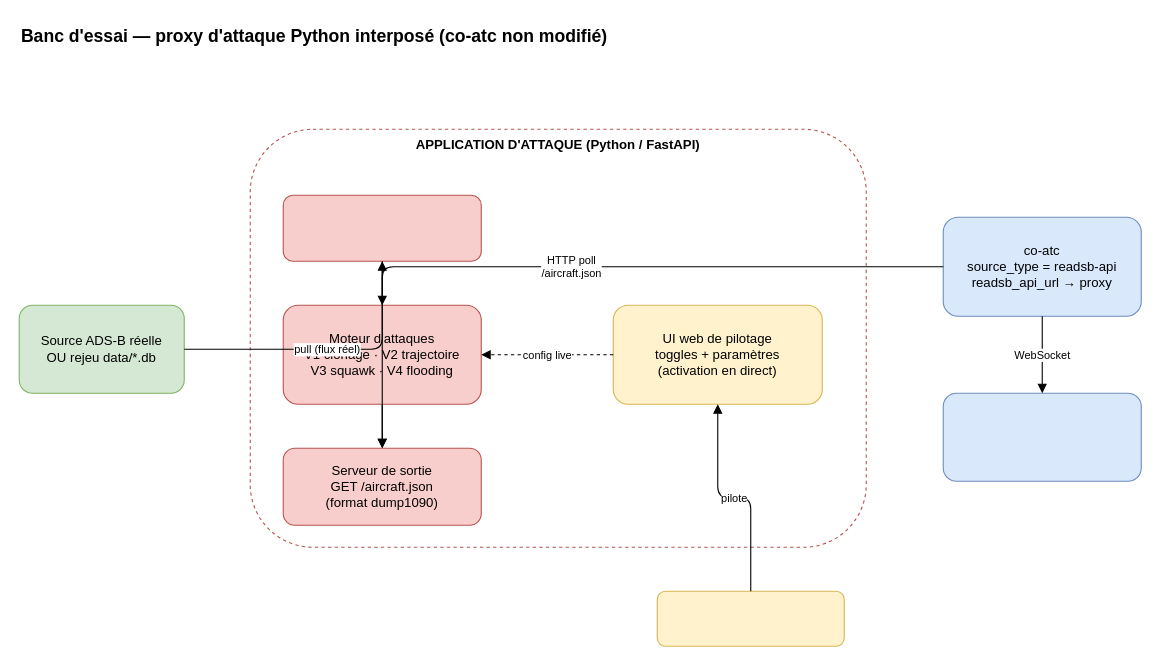
The diagram is 1161 pixels wide and 666 high, and some of its shapes have lost their labels. The shapes that lost their labels are listed below. From the top down, each one's centre as x and y in pixels, then its label:
(381,227): Fetcher amont (normalise en ADSBTarget)
(1041,436): Carte opérateur + détecteur D1/D2
(750,618): Opérateur-attaquant
